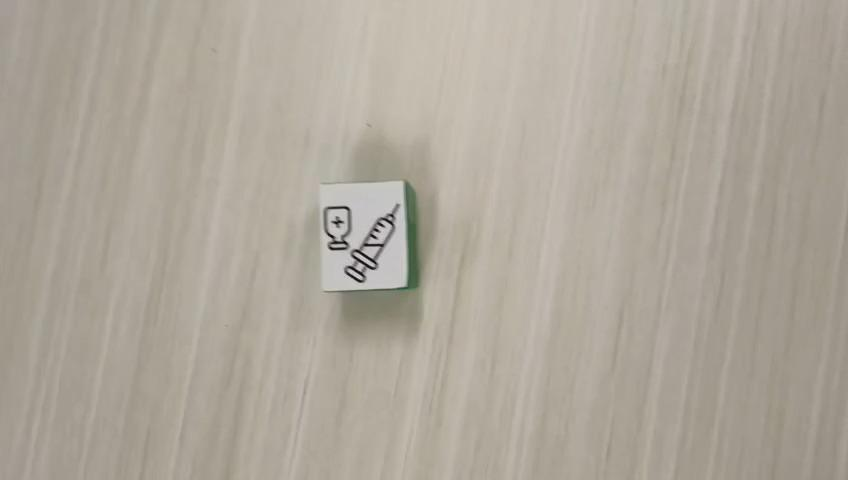antiseptic cream: (317, 178, 417, 292)
